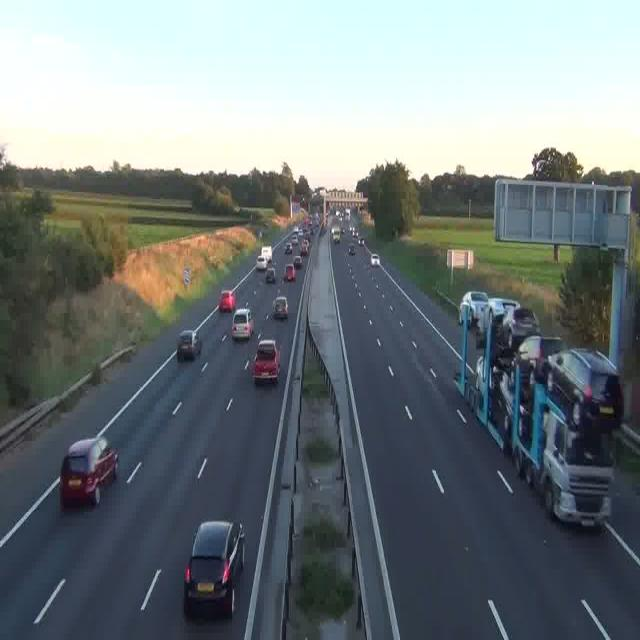car: (184, 521, 246, 619), (60, 437, 118, 506), (514, 336, 556, 383), (502, 303, 538, 352), (253, 340, 281, 385), (176, 331, 201, 361), (232, 308, 254, 340), (218, 290, 236, 312), (272, 296, 289, 319), (286, 263, 298, 280), (263, 266, 275, 282), (370, 252, 380, 266), (286, 251, 296, 264), (300, 245, 308, 258), (348, 244, 356, 257), (284, 243, 292, 254)
truck: (457, 292, 621, 526)
